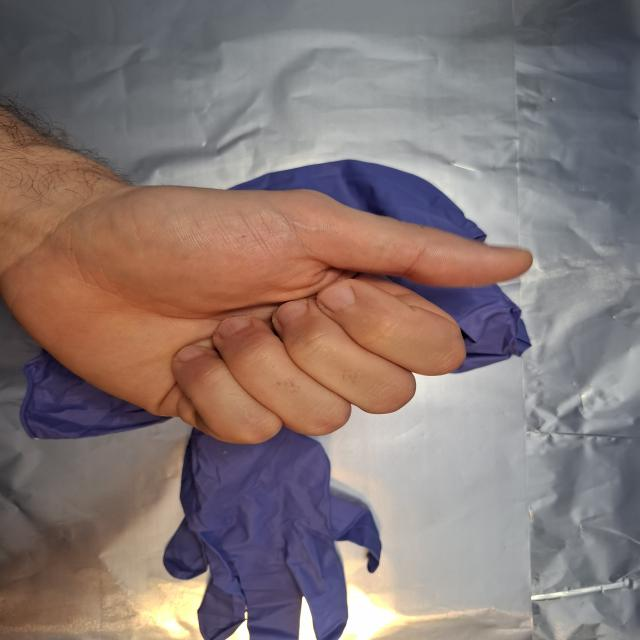glove_off: (0, 184, 538, 447)
